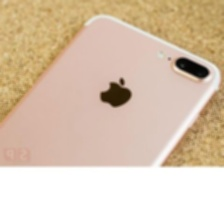phone: (0, 11, 222, 224)
